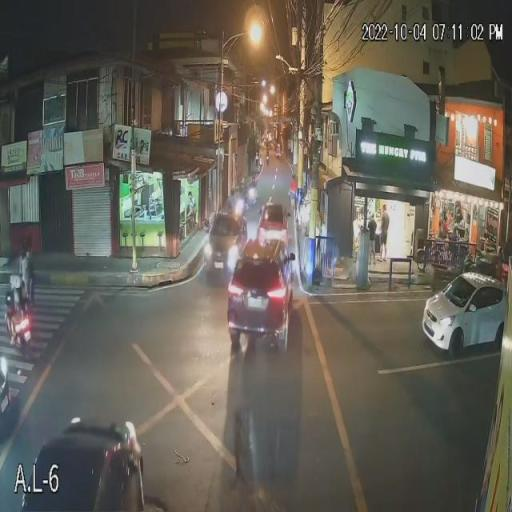helmet: (3, 276, 31, 291)
motorcycle: (4, 289, 43, 367)
rider: (11, 289, 29, 326)
